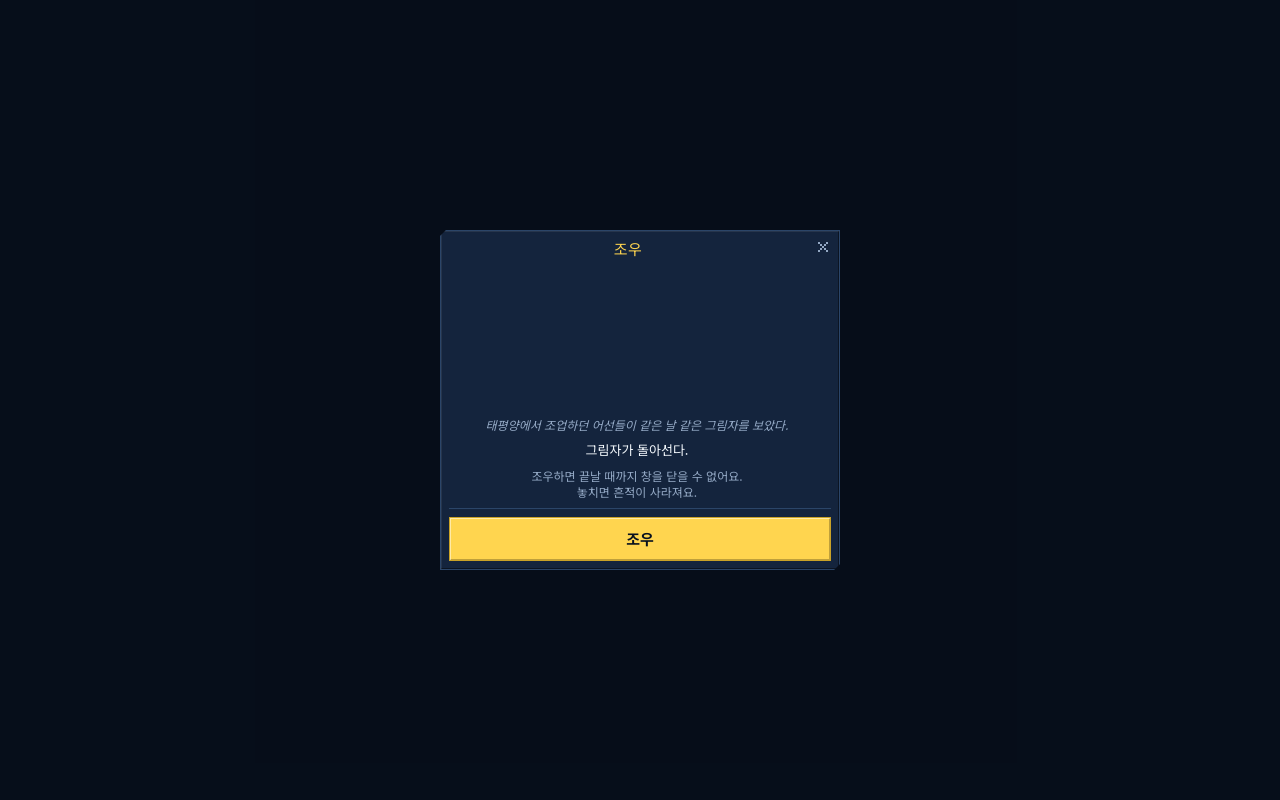
EncounterModal › 치지 않아 찬 도주는 빗나감과 다른 문구로 알린다
The width and height of the screenshot is (1280, 800).
Click the button "조우" at {"x": 640, "y": 539}, box [449, 517, 831, 561]
Wait 1650 ms
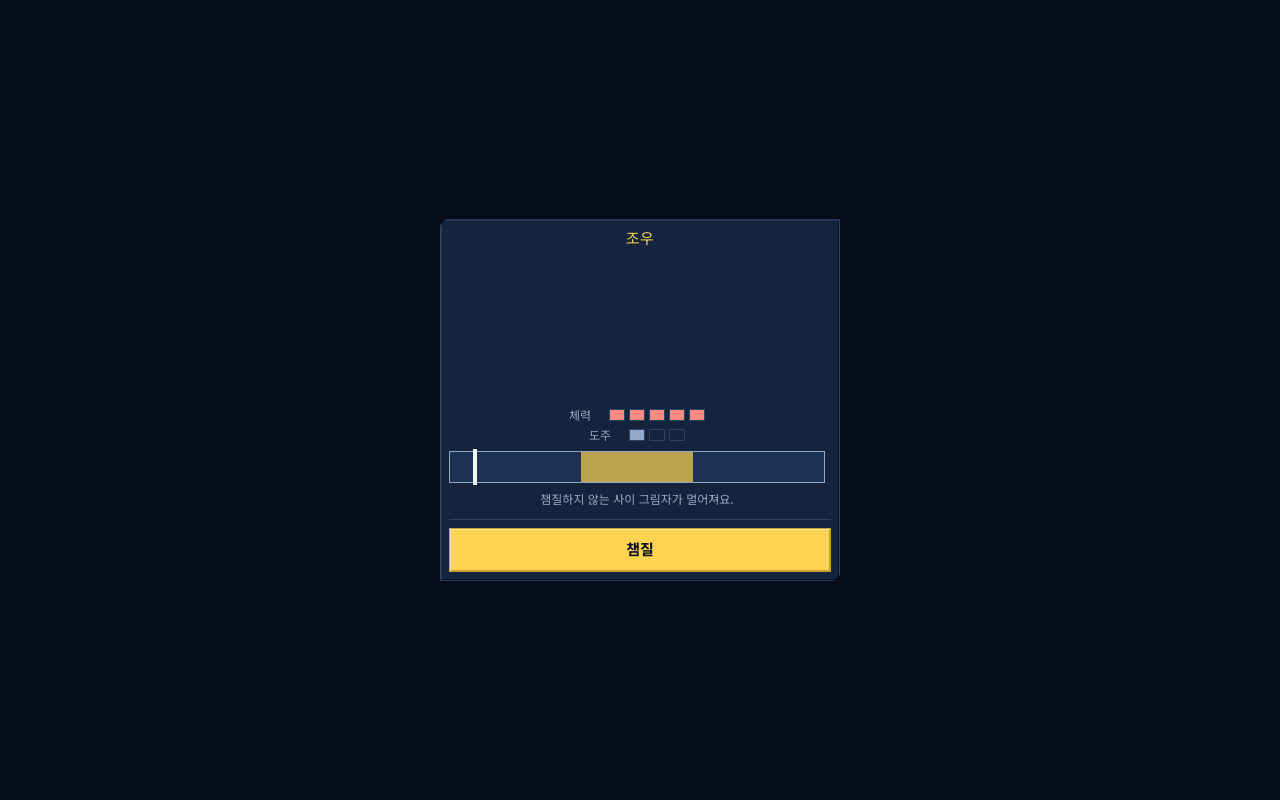
Expected: the element named "도주 1/3" is shown, [589, 427, 685, 443]
Expected: the text "챔질하지 않는 사이 그림자가 멀어져요." is shown, [540, 490, 734, 507]
